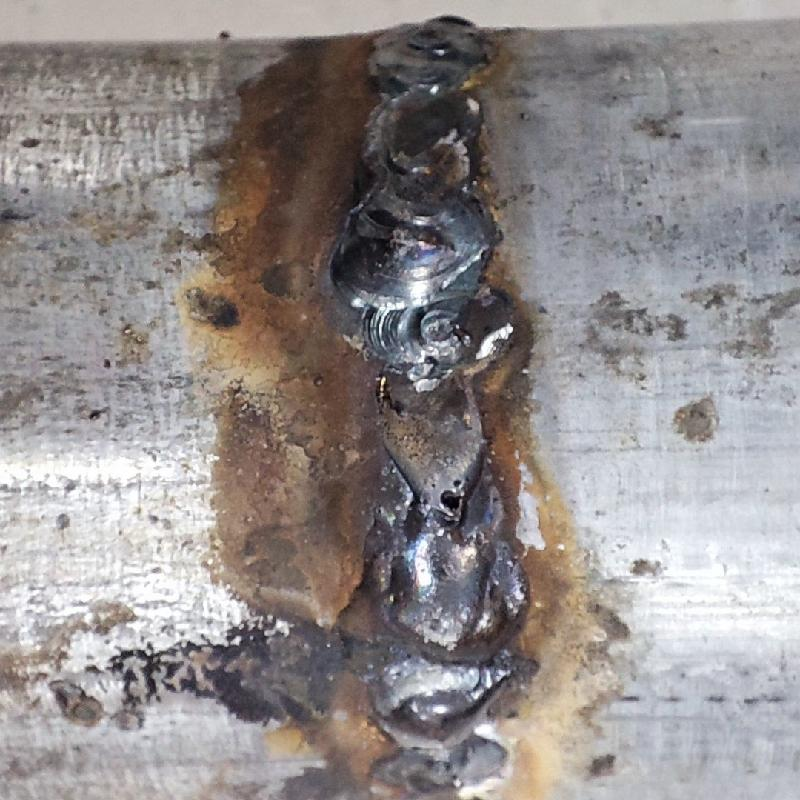Surface_pores: (423, 469, 478, 528)
wrong_size: (349, 23, 493, 304)
